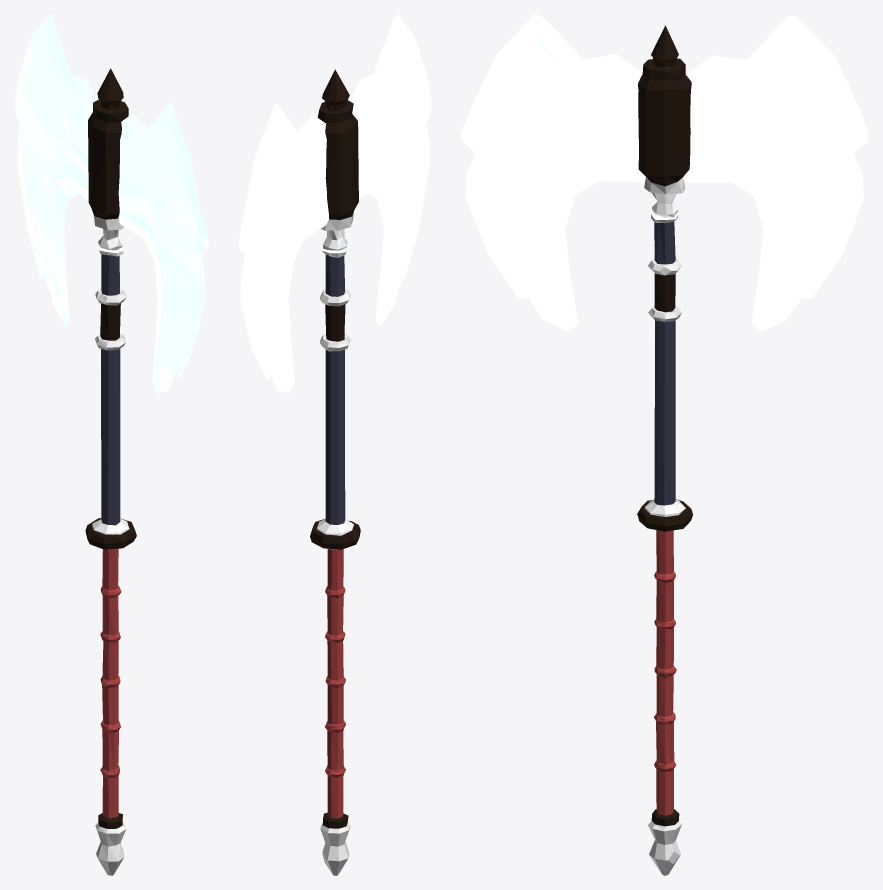
The model's file is SFFA_Weapon_Axe_Runical_005.fbx.
3 views of the same model, side by side, from view 1: azimuth 30°, elevation 25°; view 2: azimuth 150°, elevation 25°; view 3: azimuth 270°, elevation 25° (orthographic). The views are drawn at different scales.
Parts seen in each view (by area): view 1: SFFA_Weapon_Axe_Runical_005; view 2: SFFA_Weapon_Axe_Runical_005; view 3: SFFA_Weapon_Axe_Runical_005.
Part boxes in pixels (left/top/right/bottom): SFFA_Weapon_Axe_Runical_005: left=14, top=14, right=209, bottom=875; SFFA_Weapon_Axe_Runical_005: left=238, top=14, right=431, bottom=875; SFFA_Weapon_Axe_Runical_005: left=460, top=14, right=868, bottom=875.
Bounding box in the file's own units: 8.5 × 143 × 61.76.
